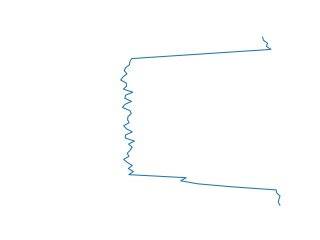distributaryChannelFill: (116, 38, 287, 205)
